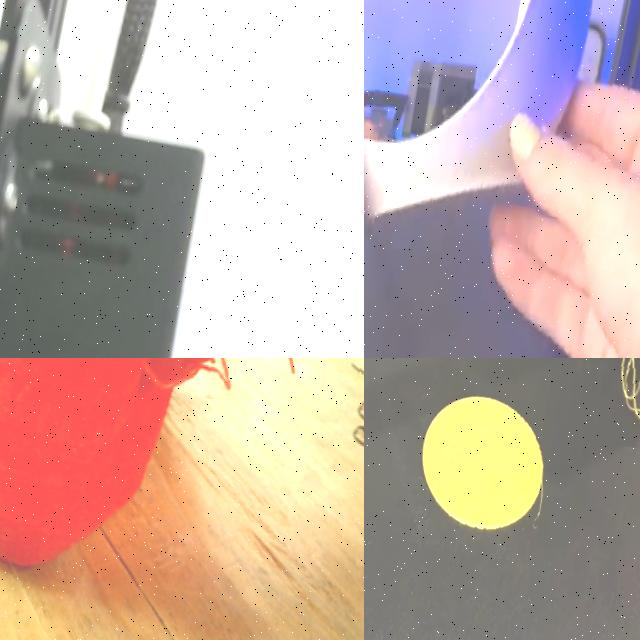spaghetti: (96, 358, 364, 409), (566, 358, 640, 458)
